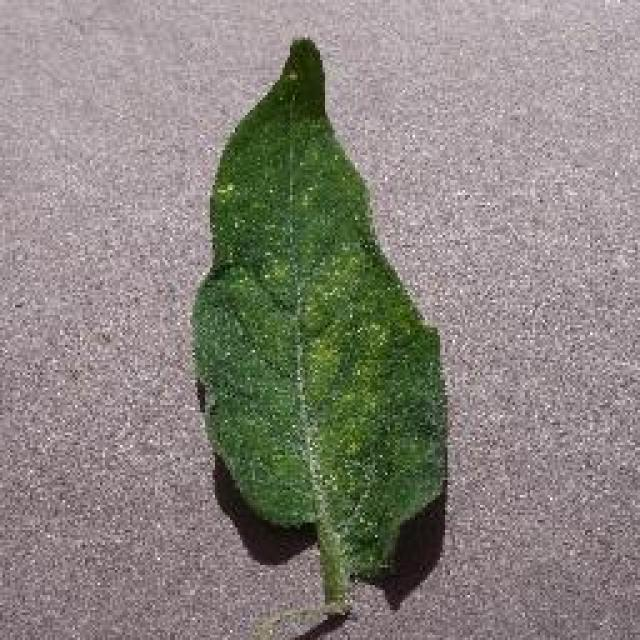Tomato mosaic virus leaf: (188, 39, 452, 579)
